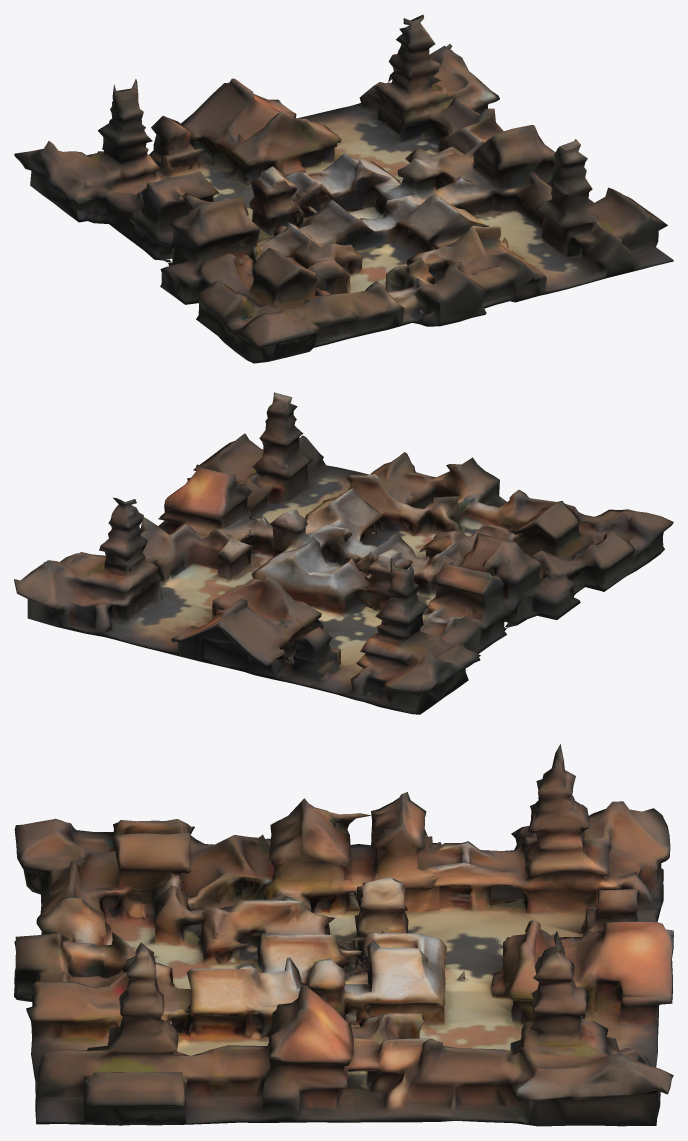
File: Meshy_AI_Create_a_massive_spr_0425120930_texture.glb
The picture shows the model from 3 angles, top to bottom: view 1: azimuth 30°, elevation 25°; view 2: azimuth 150°, elevation 25°; view 3: azimuth 270°, elevation 25°; orthographic projection. The views are drawn at different scales.
Bounding box in the file's own units: 2 × 0.529 × 2.
1 material, 1 textured.
